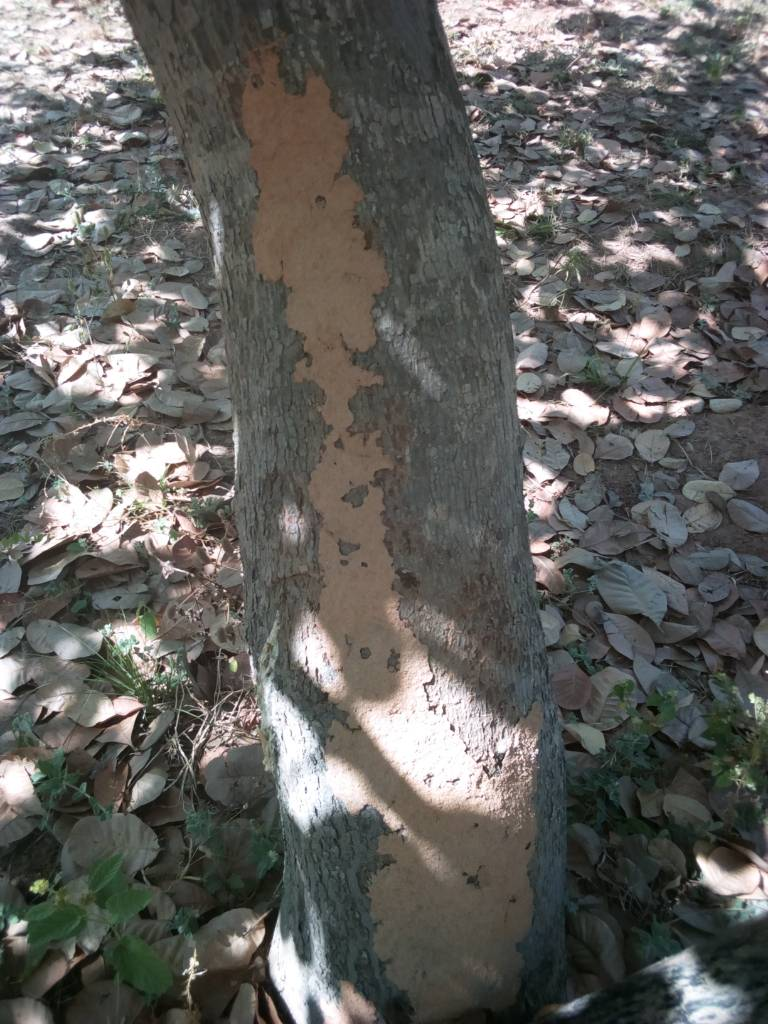Termites: (307, 417, 455, 752), (241, 71, 400, 382), (347, 763, 546, 1007)
